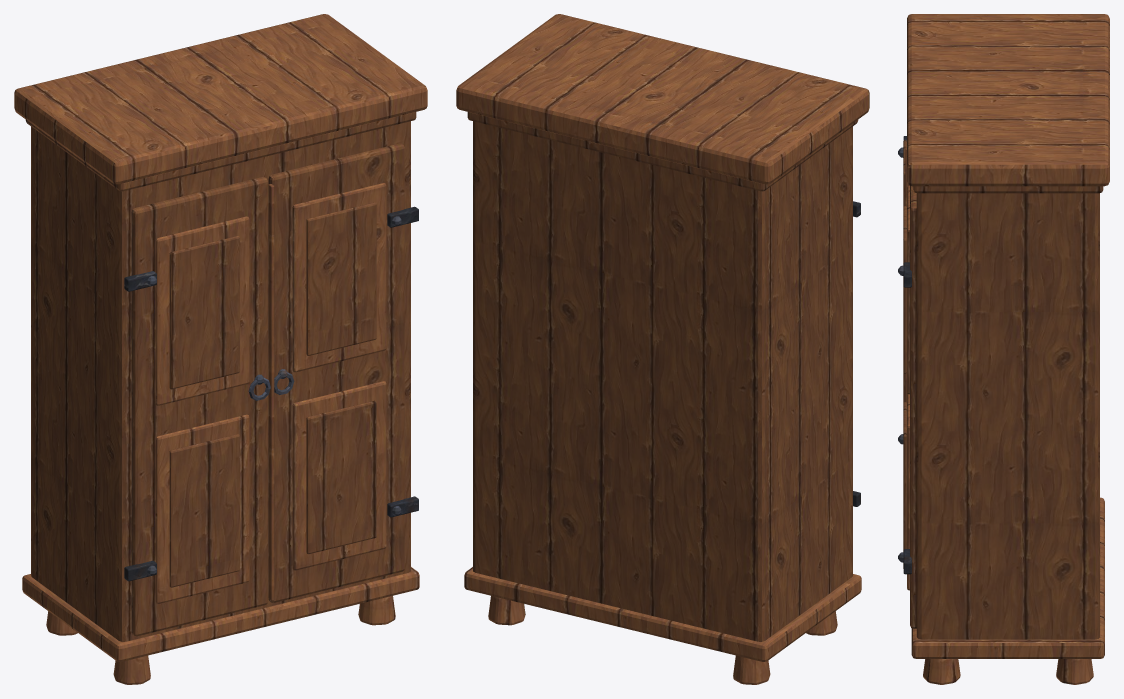
Rendered from wardrobe.glb.
3 renders of one model, left to right at view 1: azimuth 30°, elevation 25°; view 2: azimuth 150°, elevation 25°; view 3: azimuth 270°, elevation 25°, orthographic.
Visible parts, largest first — view 1: model; view 2: model; view 3: model.
Boxes of the visible parts, x1,y1,x2,y2 form: model: (14, 14, 427, 684); model: (456, 14, 869, 684); model: (898, 14, 1109, 684).
Bounding box in the file's own units: 1.08 × 1.76 × 0.6362.
Materials: 4 (4 with a texture image).
